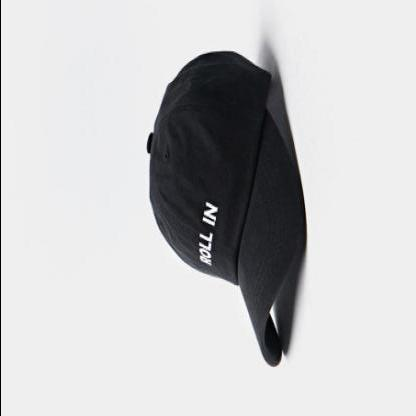cap: (136, 44, 310, 383)
